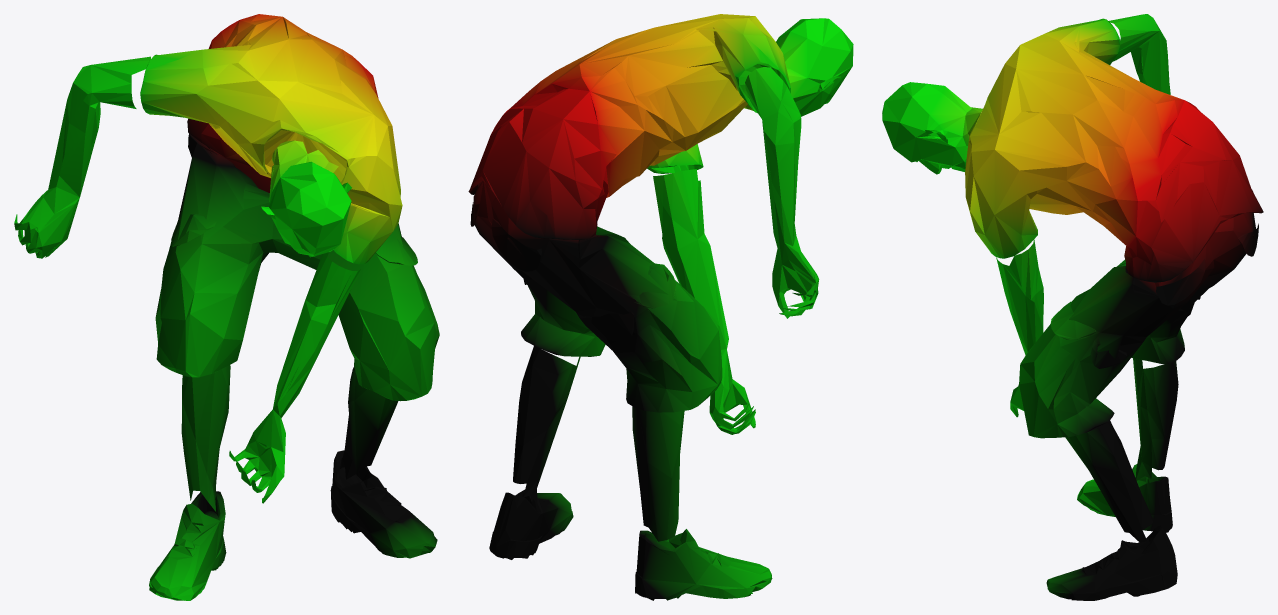
The model's file is Remy_Digging.glb.
The picture shows the model from 3 angles, left to right: view 1: azimuth 30°, elevation 25°; view 2: azimuth 150°, elevation 25°; view 3: azimuth 270°, elevation 25°; orthographic projection. The views are drawn at different scales.
Visible parts, largest first — view 1: full30; view 2: full30; view 3: full30.
Boxes of the visible parts, x1=… form: full30: x1=14, y1=14, x2=439, y2=600; full30: x1=468, y1=14, x2=853, y2=600; full30: x1=882, y1=14, x2=1263, y2=600.
Size of the model in its own units: 0.8251 by 1.22 by 0.8715.
